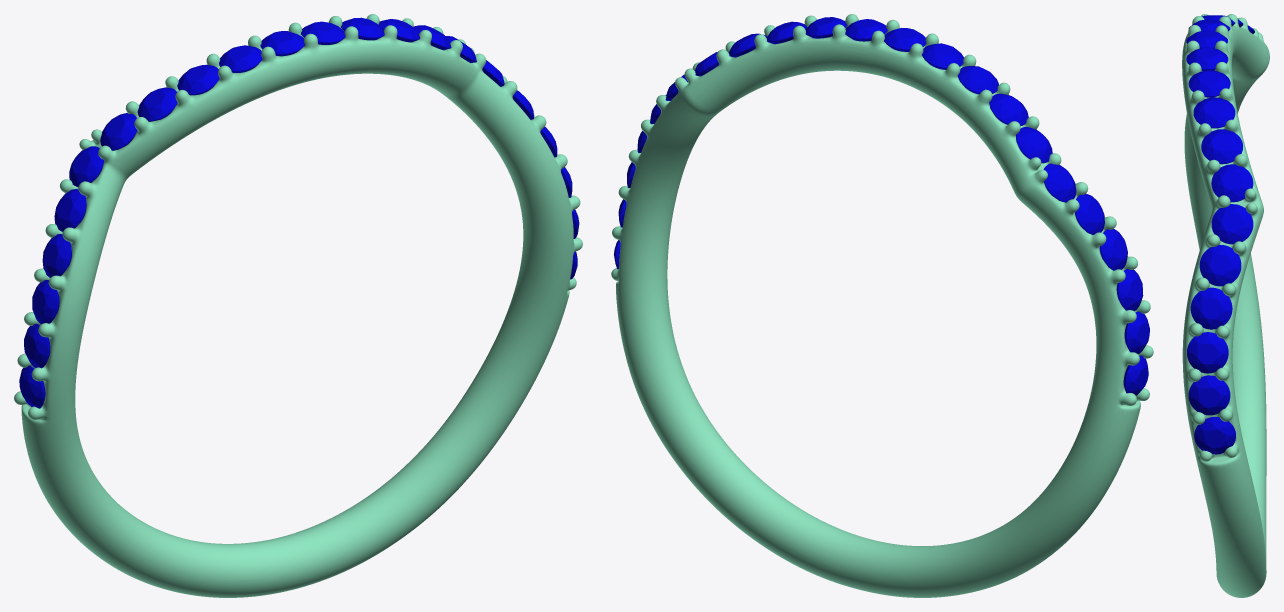
3 renders of one model, left to right at view 1: azimuth 30°, elevation 25°; view 2: azimuth 150°, elevation 25°; view 3: azimuth 270°, elevation 25°, orthographic. The views are drawn at different scales.
Parts seen in each view (by area): view 1: Metal03, Diamond_Band.004, Diamond_Band.006, Diamond_Band.007, Diamond_Band.005, Diamond_Band.003, Diamond_Band.008, Diamond_Band.002, Diamond_Band.009, Diamond_Band.001, Diamond_Band.010, Diamond_Band; view 2: Metal03, Diamond_Band.005, Diamond_Band.006, Diamond_Band.004, Diamond_Band.007, Diamond_Band.003, Diamond_Band.008, Diamond_Band.002, Diamond_Band.009, Diamond_Band.001, Diamond_Band.010, Diamond_Band; view 3: Metal03, Diamond_Band.018, Diamond_Band.017, Diamond_Band.019, Diamond_Band.020, Diamond_Band.016, Diamond_Band.021, Diamond_Band.015, Diamond_Band.014, Diamond_Band.013, Diamond_Band.012, Diamond_Band.011 (+2 smaller).
Boxes of the visible parts, <box> form: Metal03: <box>14,14,582,597</box>; Diamond_Band.004: <box>54,189,86,231</box>; Diamond_Band.006: <box>100,113,137,150</box>; Diamond_Band.007: <box>137,87,177,121</box>; Diamond_Band.005: <box>69,146,104,186</box>; Diamond_Band.003: <box>42,234,71,277</box>; Diamond_Band.008: <box>177,64,219,95</box>; Diamond_Band.002: <box>32,280,59,324</box>; Diamond_Band.009: <box>219,45,262,72</box>; Diamond_Band.001: <box>24,323,50,368</box>; Diamond_Band.010: <box>260,31,304,56</box>; Diamond_Band: <box>19,365,45,408</box>; Metal03: <box>611,14,1153,597</box>; Diamond_Band.005: <box>1043,163,1076,202</box>; Diamond_Band.006: <box>1016,127,1052,163</box>; Diamond_Band.004: <box>1075,193,1104,234</box>; Diamond_Band.007: <box>989,93,1028,125</box>; Diamond_Band.003: <box>1099,229,1127,270</box>; Diamond_Band.008: <box>957,66,998,94</box>; Diamond_Band.002: <box>1116,269,1143,311</box>; Diamond_Band.009: <box>922,43,963,69</box>; Diamond_Band.001: <box>1124,311,1149,354</box>; Diamond_Band.010: <box>884,28,926,51</box>; Diamond_Band: <box>1123,355,1148,395</box>; Metal03: <box>1182,14,1269,597</box>; Diamond_Band.018: <box>1190,287,1232,329</box>; Diamond_Band.017: <box>1199,245,1241,286</box>; Diamond_Band.019: <box>1187,332,1228,373</box>; Diamond_Band.020: <box>1188,375,1230,415</box>; Diamond_Band.016: <box>1211,204,1253,244</box>; Diamond_Band.021: <box>1194,417,1235,454</box>; Diamond_Band.015: <box>1211,164,1253,202</box>; Diamond_Band.014: <box>1201,129,1242,164</box>; Diamond_Band.013: <box>1193,97,1235,128</box>; Diamond_Band.012: <box>1188,70,1230,97</box>; Diamond_Band.011: <box>1186,47,1228,70</box>.
Size of the model in its own units: 21 by 20.94 by 3.15.
